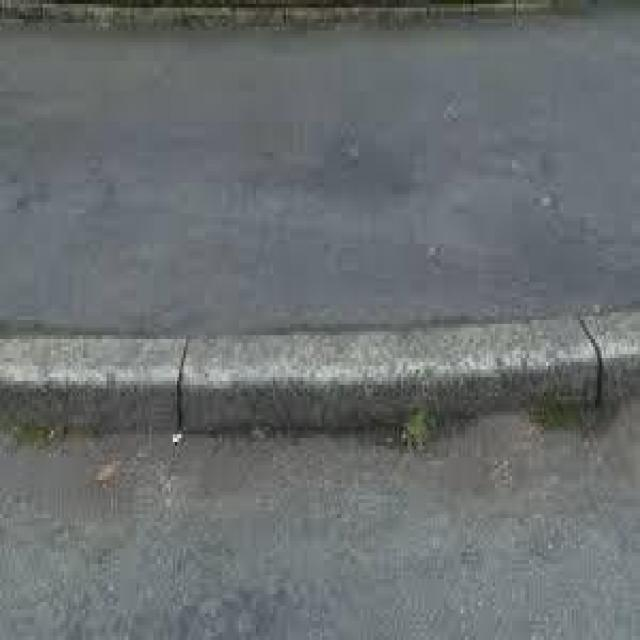curb: (8, 325, 636, 436)
